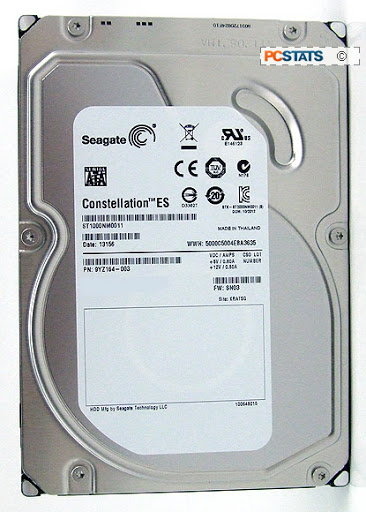seagate-hdd-240gb: (14, 18, 354, 501)
